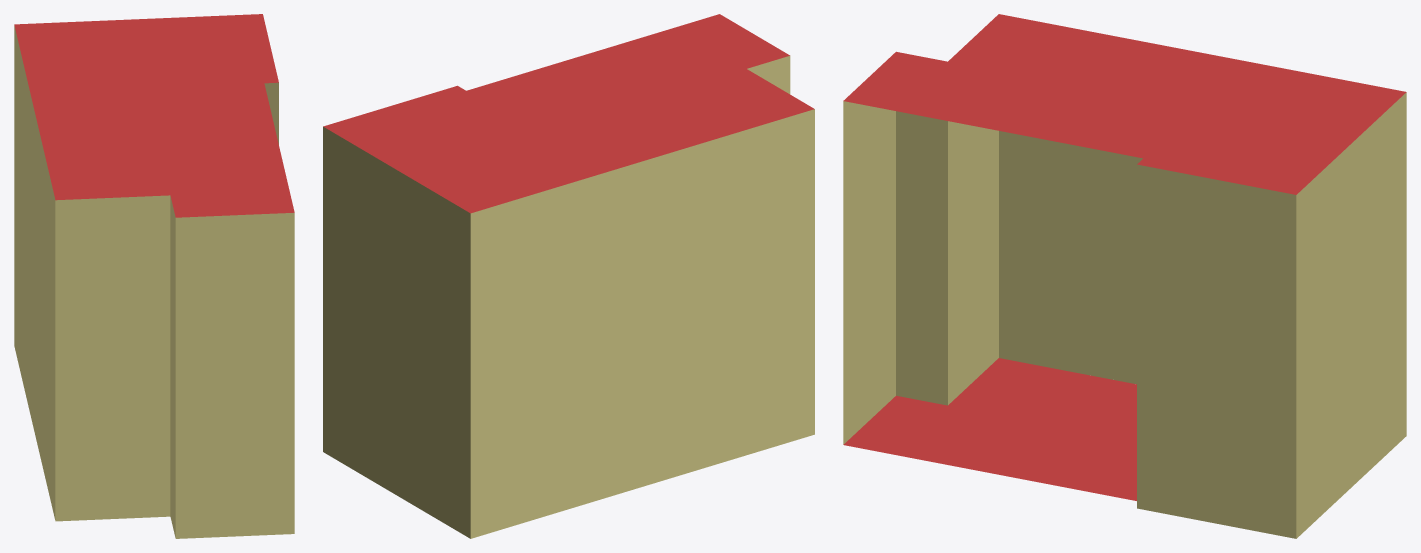
The picture shows the model from 3 angles, left to right: view 1: azimuth 30°, elevation 25°; view 2: azimuth 150°, elevation 25°; view 3: azimuth 270°, elevation 25°; orthographic projection. The views are drawn at different scales.
Visible parts, largest first — view 1: group_4, group_3; view 2: group_4, group_3; view 3: group_4, group_3, group_5.
Boxes of the visible parts, x1,y1,x2,y2 form: group_4: (14, 25, 294, 538); group_3: (14, 14, 294, 217); group_4: (323, 56, 814, 538); group_3: (323, 14, 814, 213); group_4: (843, 92, 1406, 538); group_3: (843, 14, 1406, 194); group_5: (843, 358, 1136, 500).
Bounding box in the file's own units: 7.23 × 9.51 × 6.41.
